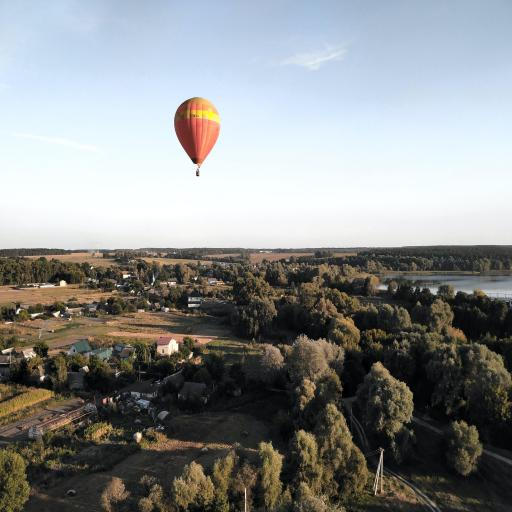hot air ballon: (173, 93, 222, 179)
